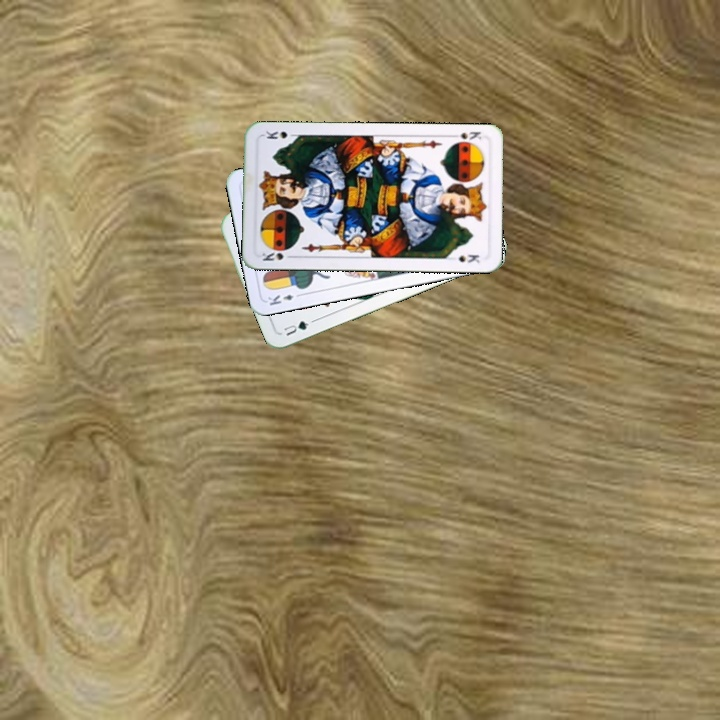EK: (264, 289, 304, 308)
GU: (279, 316, 317, 339)
SK: (258, 248, 297, 263), (447, 127, 484, 142)
